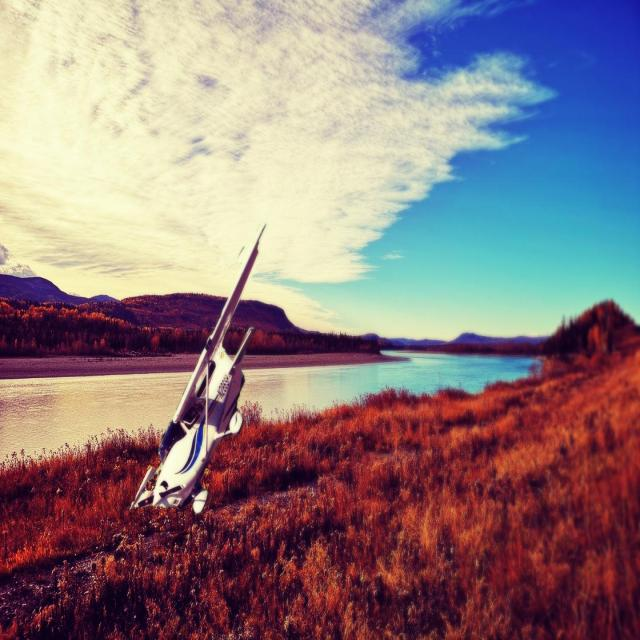airplane: (128, 222, 267, 516)
